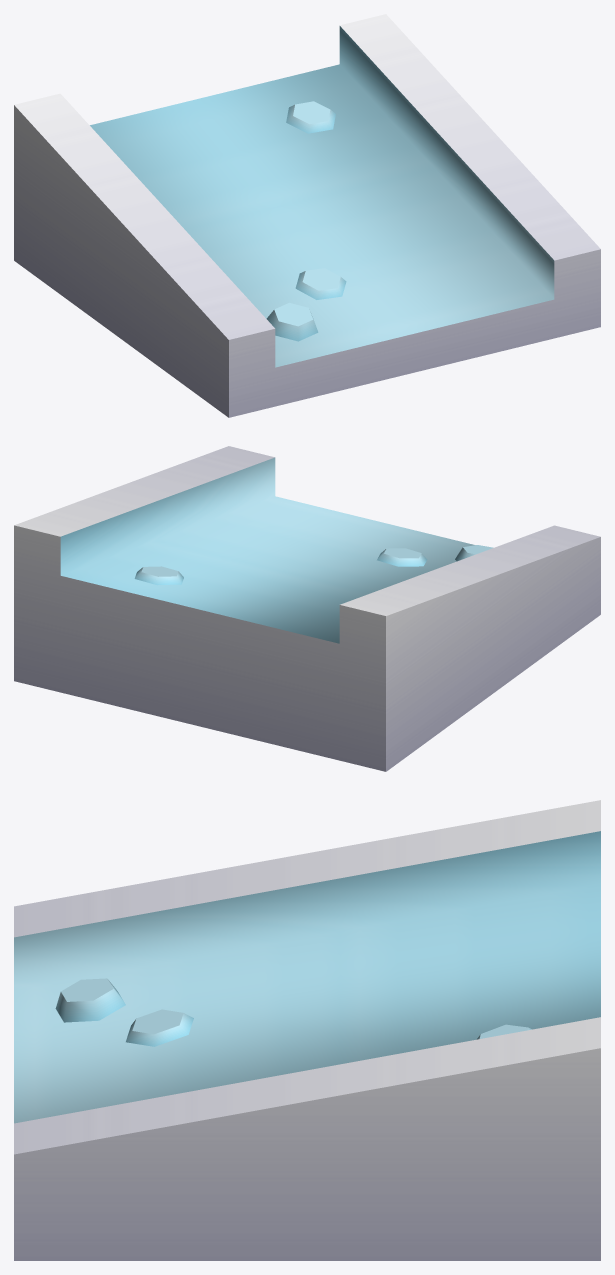
Rendered from snow-tile-straight-slope.fbx.
The picture shows the model from 3 angles, top to bottom: view 1: azimuth 30°, elevation 25°; view 2: azimuth 150°, elevation 25°; view 3: azimuth 270°, elevation 25°; orthographic projection. The views are drawn at different scales.
Parts seen in each view (by area): view 1: snow-tile-straight-slope; view 2: snow-tile-straight-slope; view 3: snow-tile-straight-slope.
Part boxes in pixels (box(x1,y1,x2,y2)): snow-tile-straight-slope: box(14, 14, 600, 417); snow-tile-straight-slope: box(14, 446, 600, 771); snow-tile-straight-slope: box(14, 800, 600, 1260).
Size of the model in its own units: 100 by 40 by 100.
